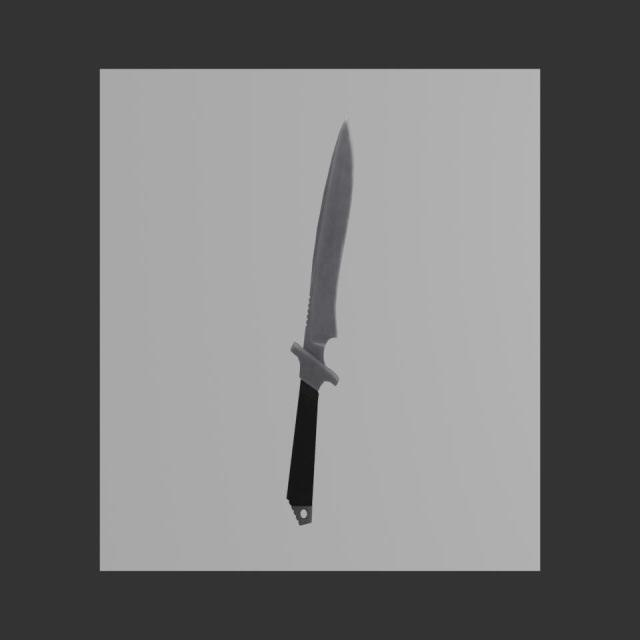knife: (286, 380, 319, 526)
